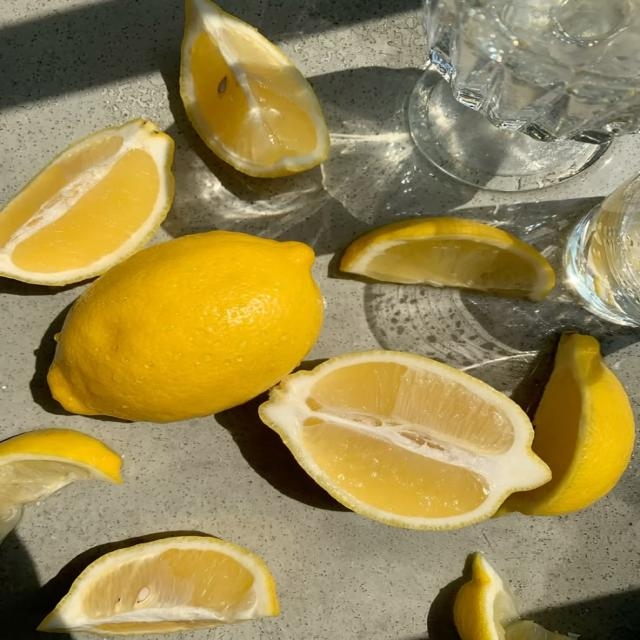lemon: (48, 231, 323, 422), (260, 351, 550, 529), (0, 120, 173, 285), (180, 0, 329, 176), (500, 333, 634, 515), (39, 536, 279, 636), (340, 217, 554, 300), (0, 429, 121, 533), (454, 553, 567, 639), (454, 553, 518, 639), (505, 620, 570, 639)
